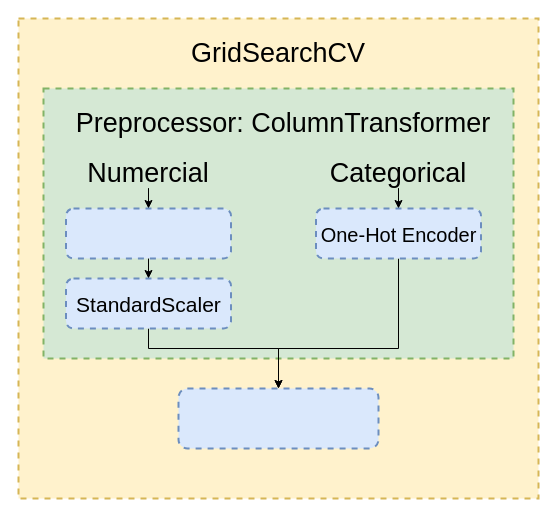
The diagram is 556 pixels wide and 516 high, and some of its shapes have lost their labels. The centre of each missing label's shape, as x and y in pixels:
"Random Forest Regression" goes at (x=278, y=418).
"Simple Imputer" goes at (x=148, y=233).
